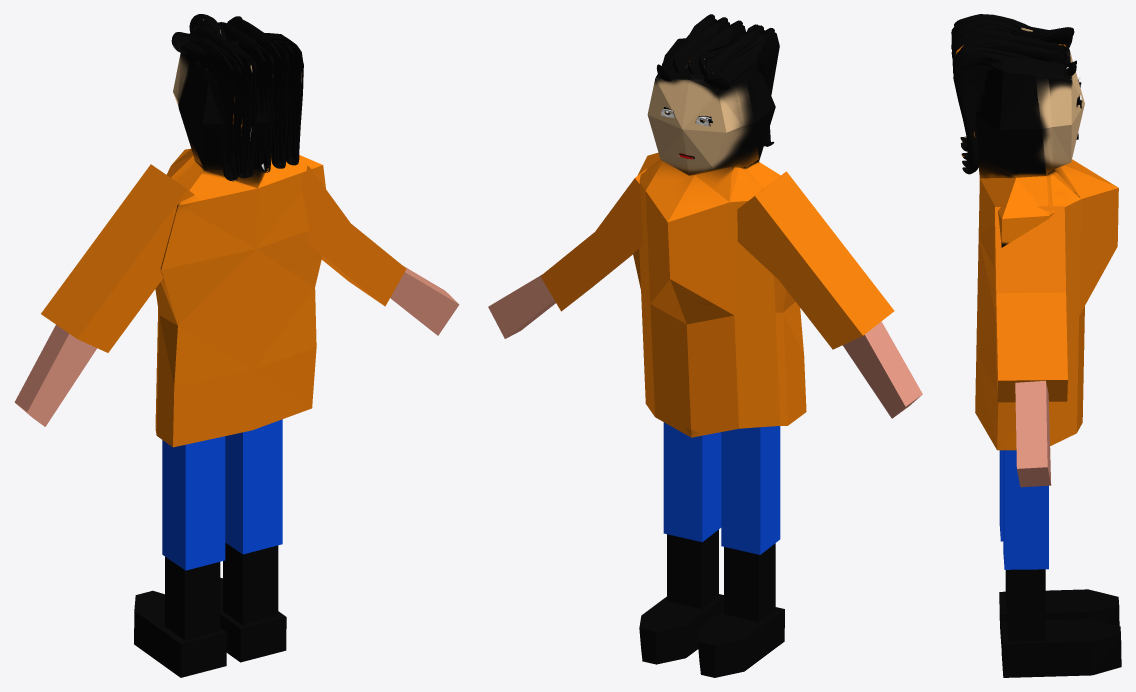
The model's file is Hurman3.obj.
The picture shows the model from 3 angles, left to right: view 1: azimuth 30°, elevation 25°; view 2: azimuth 150°, elevation 25°; view 3: azimuth 270°, elevation 25°; orthographic projection. The views are drawn at different scales.
Visible parts, largest first — view 1: Cube; view 2: Cube; view 3: Cube.
Boxes of the visible parts, x1=… form: Cube: x1=14, y1=14, x2=459, y2=677; Cube: x1=488, y1=14, x2=922, y2=677; Cube: x1=951, y1=14, x2=1121, y2=677.
Bounding box in the file's own units: 2.58 × 3.54 × 0.871.
9 materials, 9 textured.
